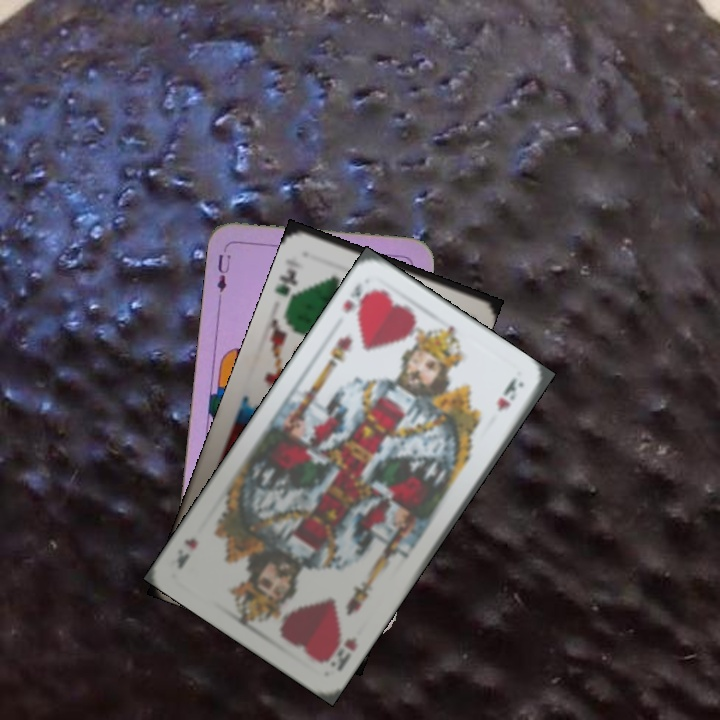EU: (213, 242, 233, 295)
GK: (271, 264, 300, 309)
HK: (339, 279, 378, 318), (326, 633, 360, 674)
